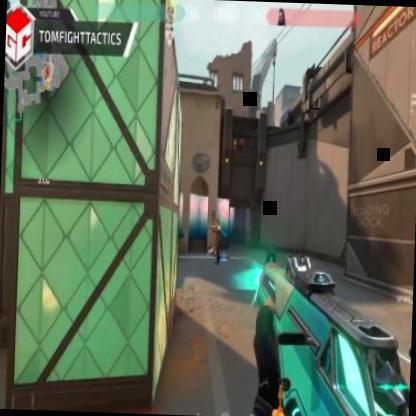enemy: (212, 219, 223, 266)
enemy_head: (216, 219, 220, 226)
